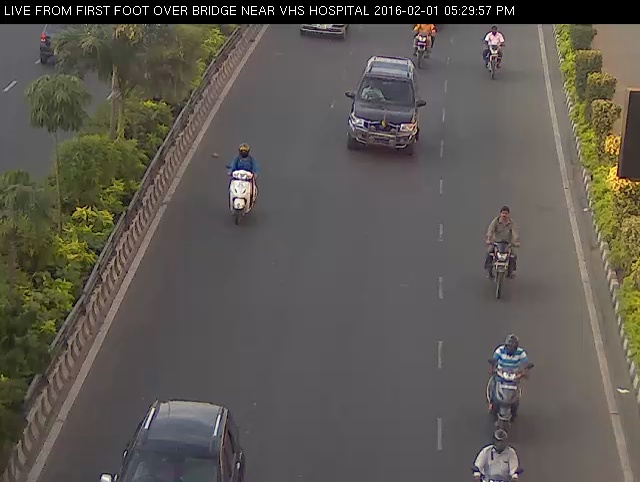Car: (99, 395, 244, 482), (337, 51, 434, 163), (290, 18, 350, 42)
Person: (483, 330, 536, 437), (213, 137, 264, 234), (480, 198, 527, 302), (464, 415, 525, 482), (409, 15, 438, 75), (479, 27, 509, 82)
